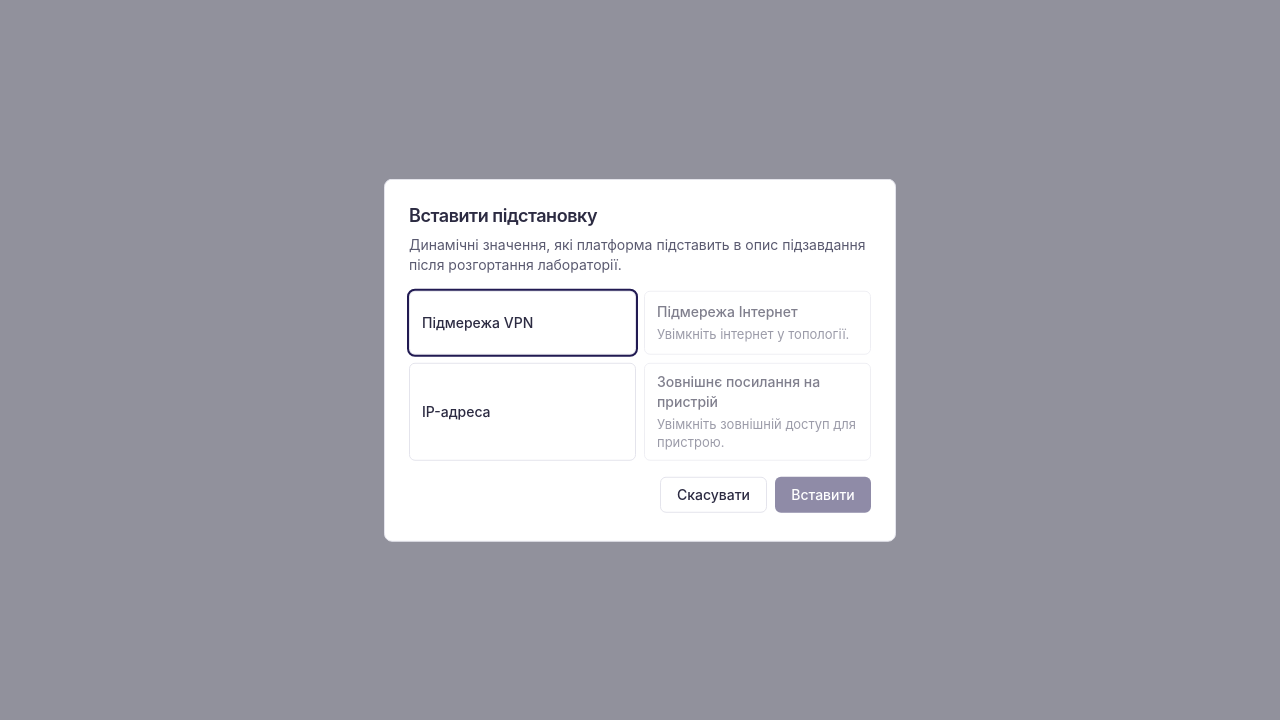
Scenario: PlaceholderDialog › IP link form › has no link fields until the switch is on, then previews a working link
Step 1. Click the button "IP-адреса" → (522, 411), box x1=409 y1=362 x2=636 y2=460
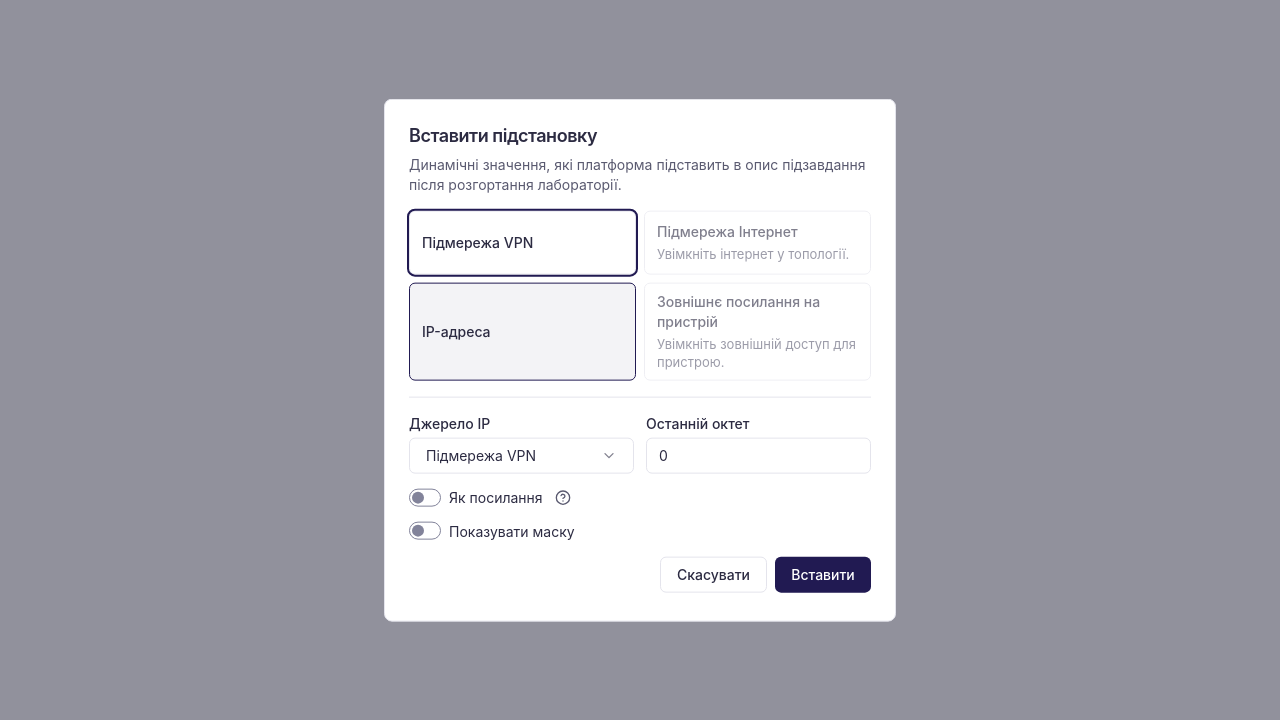
Step 2. Click the switch named "Як посилання" next to "Як посилання" → (425, 497), box x1=409 y1=488 x2=441 y2=506
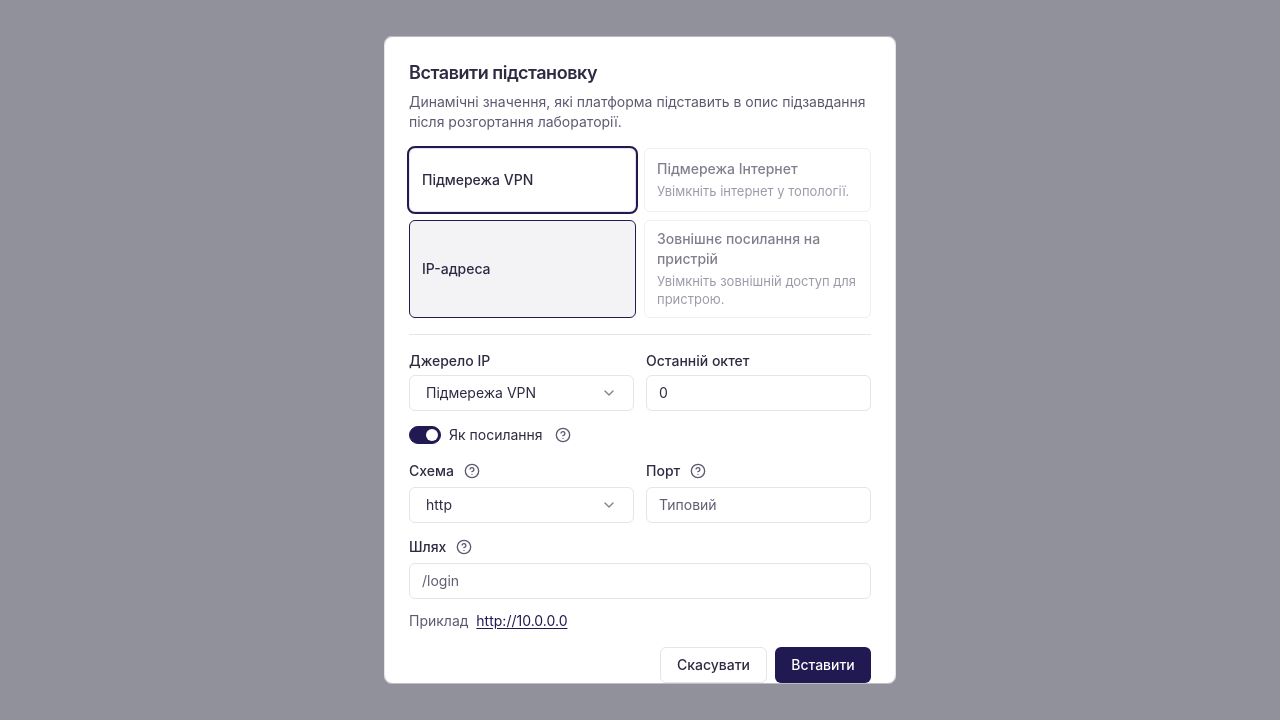
Expected: the button with aria-label "Схема" reads "http", x1=409 y1=486 x2=634 y2=522
Step 3. Type "8443" into the field labelled "Порт" → (758, 504), box x1=646 y1=486 x2=871 y2=522
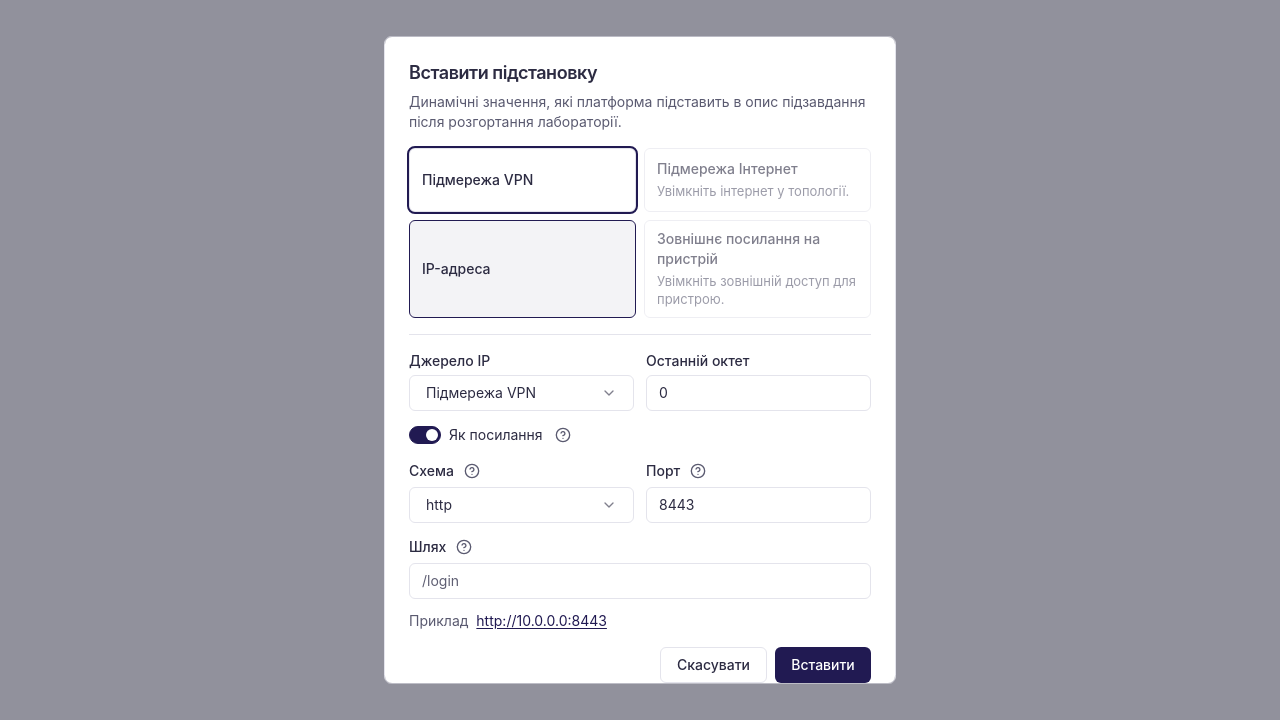
Step 4. Type "/admin" into the field labelled "Шлях" → (640, 580), box x1=409 y1=562 x2=871 y2=598
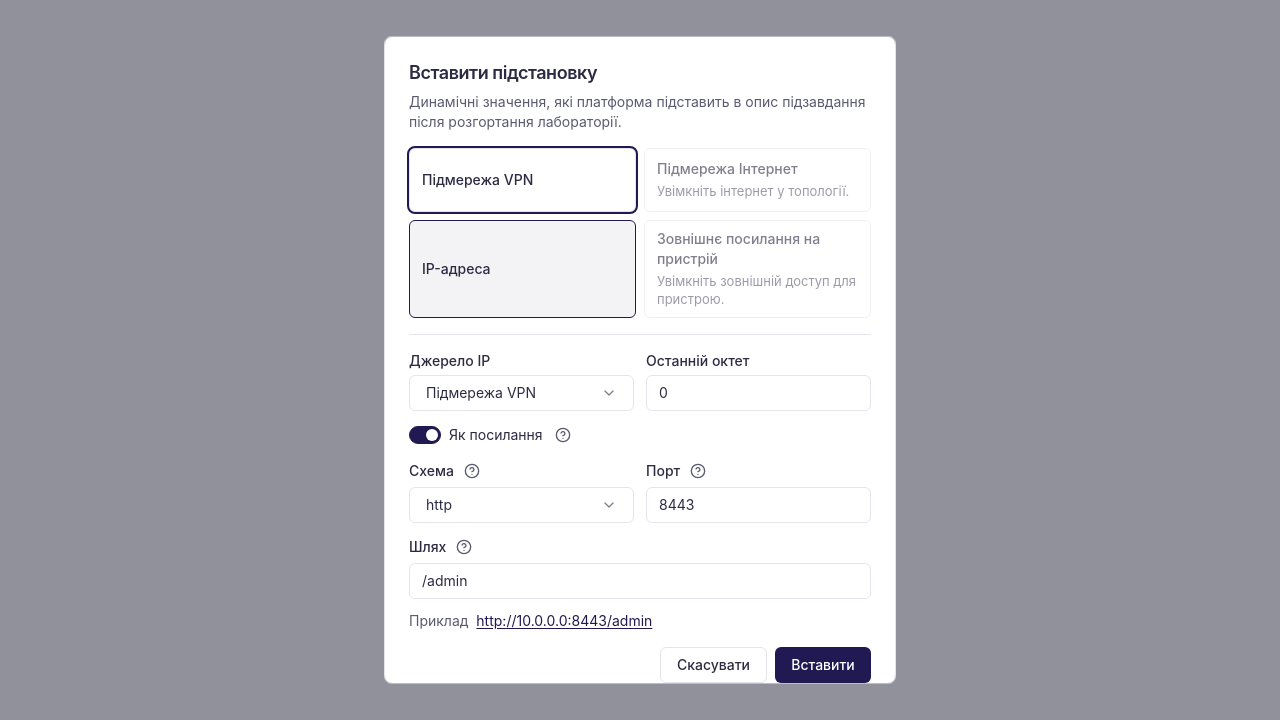
Step 5. Replace the text in the number field labelled "Останній октет" with "5" → (758, 392), box x1=646 y1=374 x2=871 y2=410
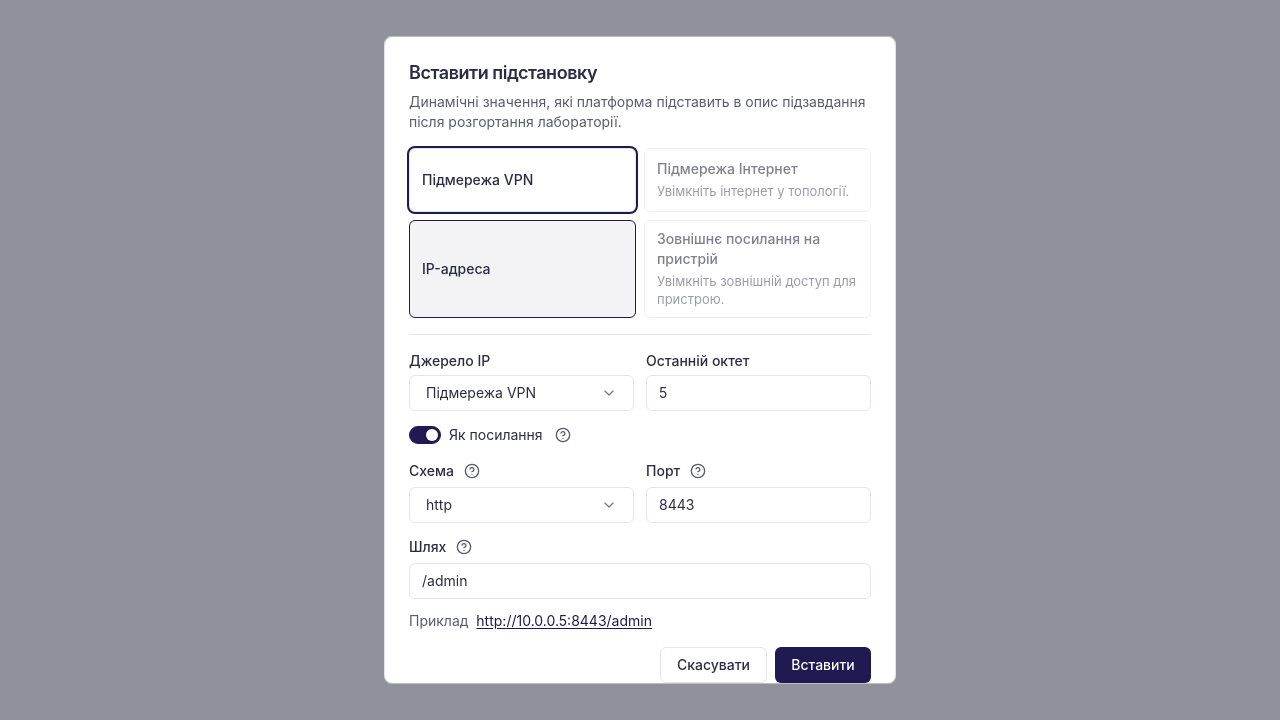
Expected: the link "http://10.0.0.5:8443/admin" is shown, x1=476 y1=612 x2=652 y2=628
